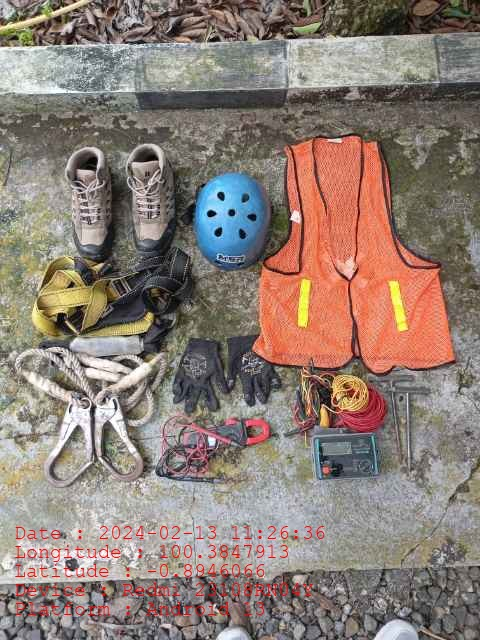HELM: (194, 174, 270, 271)
ROMPI: (266, 135, 420, 367)
SARUNG_TANGAN: (225, 335, 281, 406), (174, 338, 227, 413)
SEPATU: (62, 144, 177, 258)
TAMBANG_SLING: (12, 344, 166, 488)
